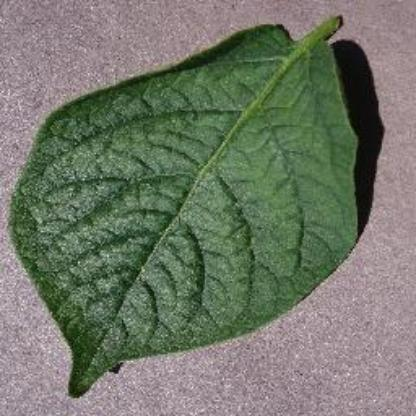Healthy-plant: (10, 17, 366, 383)
